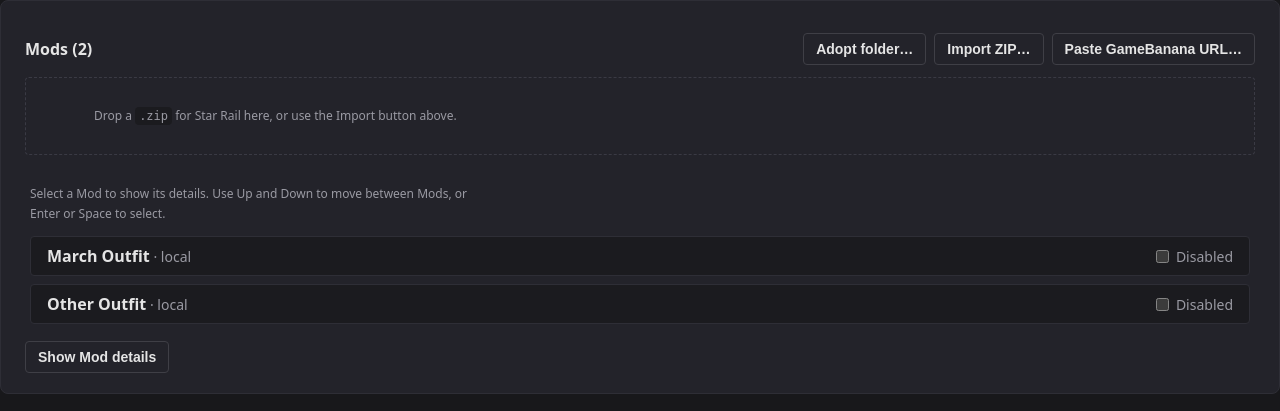
can open an explicit empty inspector before selecting a row
Expected: the list item "March Outfit" is shown, [30, 236, 1250, 276]
What coordinates should you click on to do the following:
click the button "Show Mod details"
I would click on:
 (97, 357)
Its box is [25, 341, 169, 373].
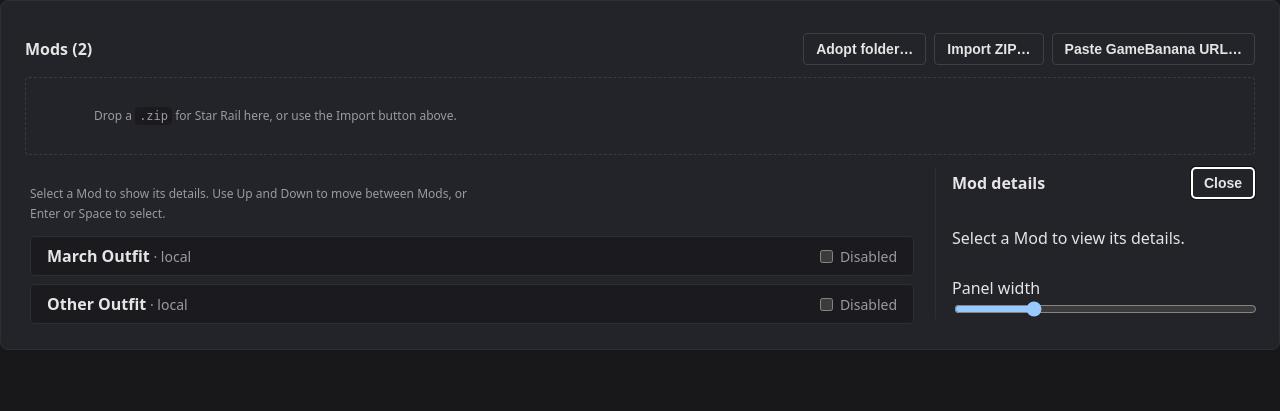
Expected: the text "Select a Mod to view its details." is shown, [952, 227, 1185, 249]
